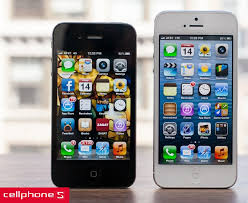iphone: (147, 7, 240, 191), (47, 16, 139, 194)
iphone5: (148, 6, 241, 190), (48, 16, 140, 194)
